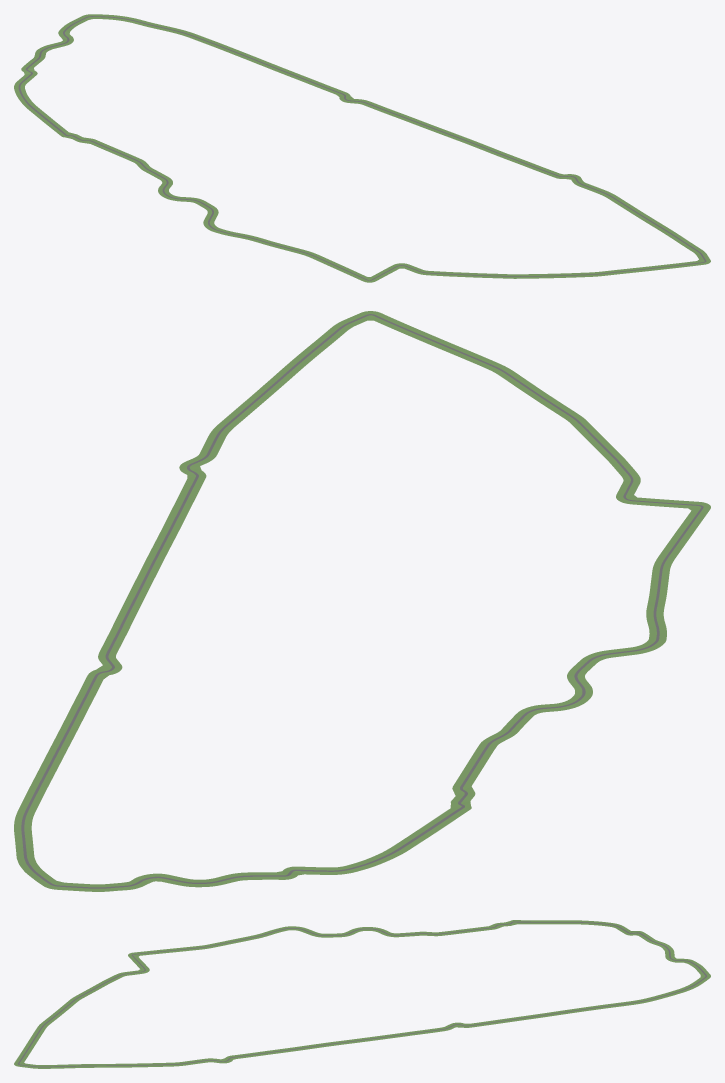
The model's file is road_mesh.glb.
The picture shows the model from 3 angles, top to bottom: view 1: azimuth 30°, elevation 25°; view 2: azimuth 150°, elevation 25°; view 3: azimuth 270°, elevation 25°; orthographic projection. The views are drawn at different scales.
Size of the model in its own units: 2789 by 38.1 by 5466.
